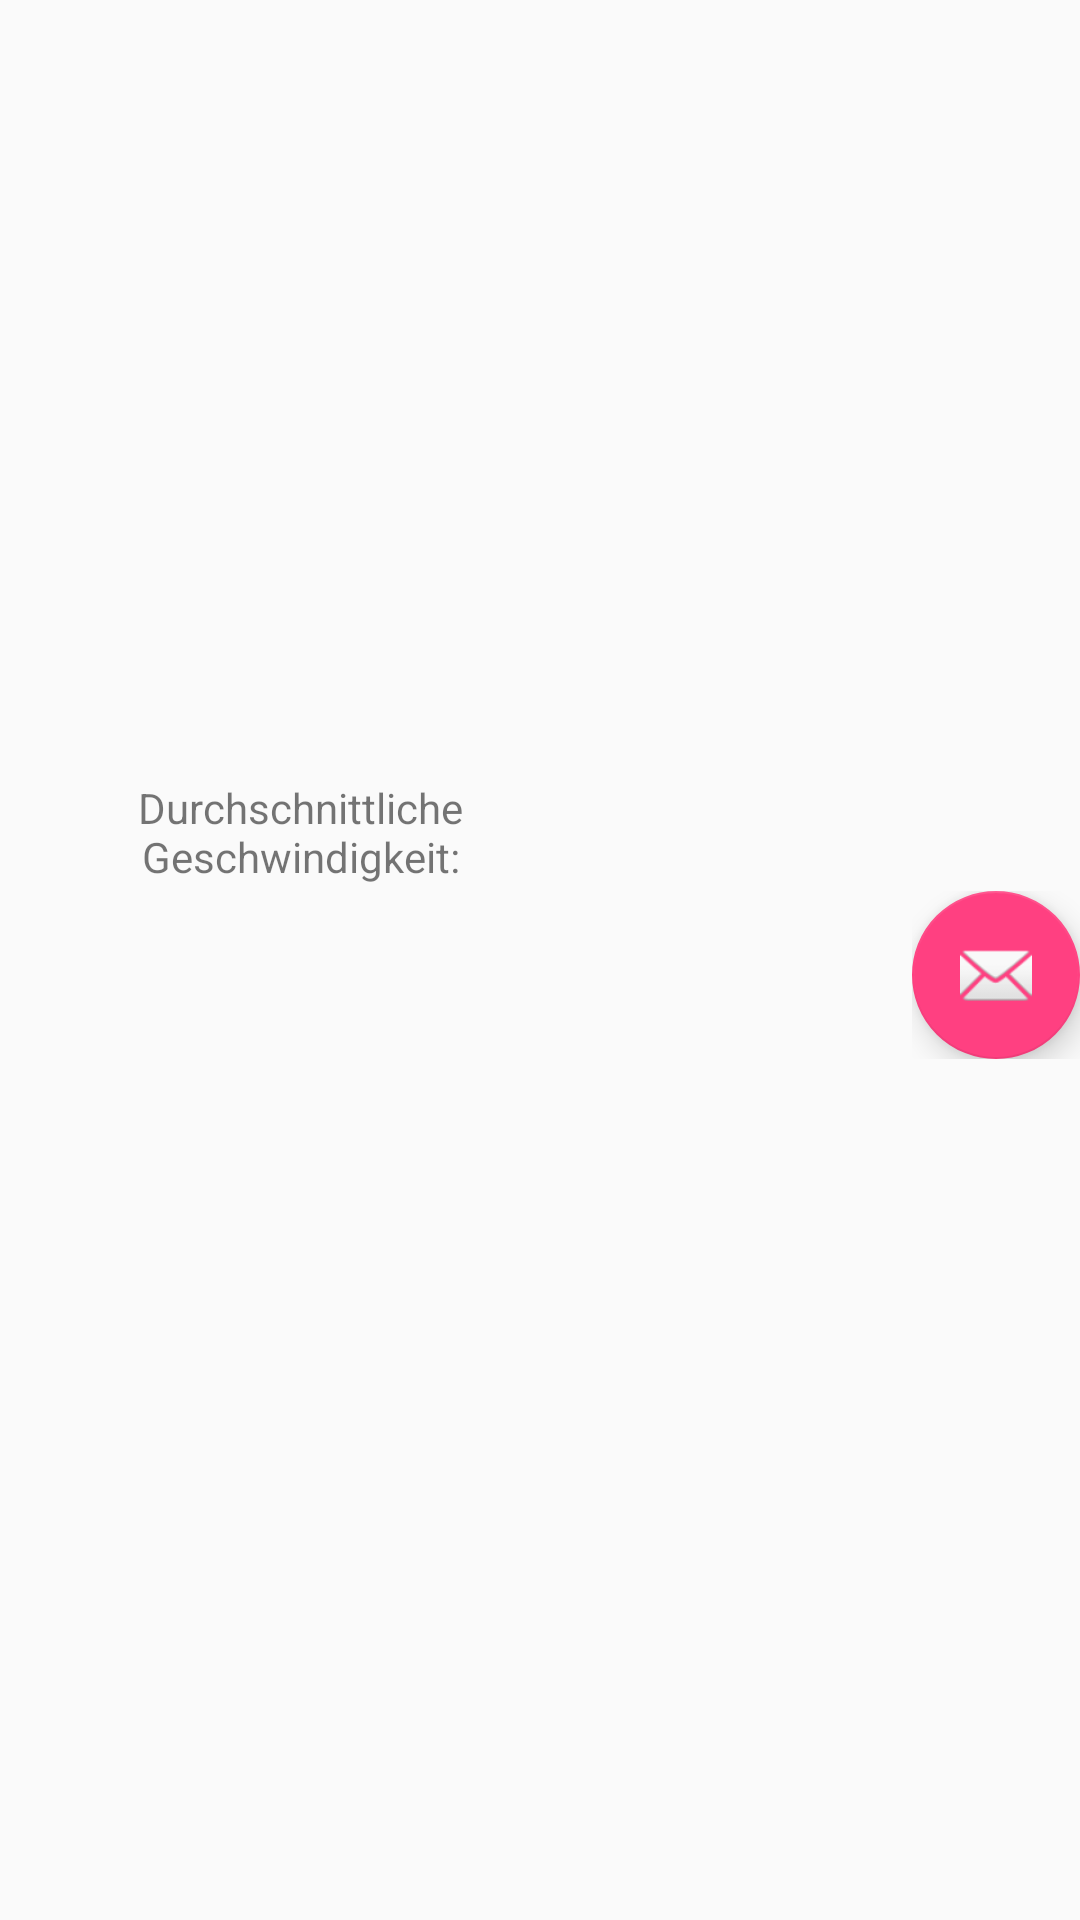

Screen size 1080*1920. Icon name, then its center in pixels as (x,y):
email: (996,975)
